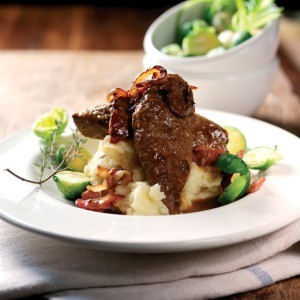liver_brain food: (76, 61, 232, 163)
